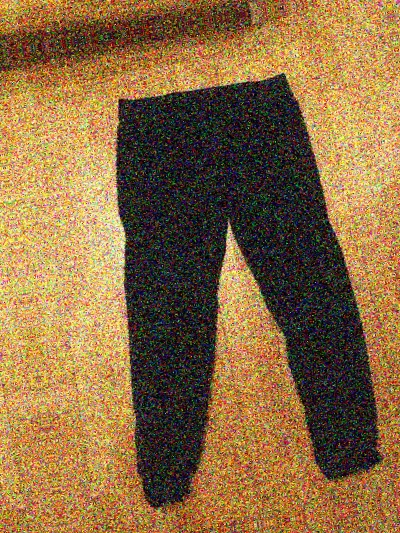Pants: (56, 33, 400, 517), (0, 0, 336, 10), (135, 528, 400, 533)
